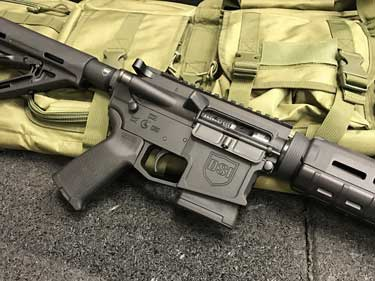ak47: (1, 14, 375, 233)
